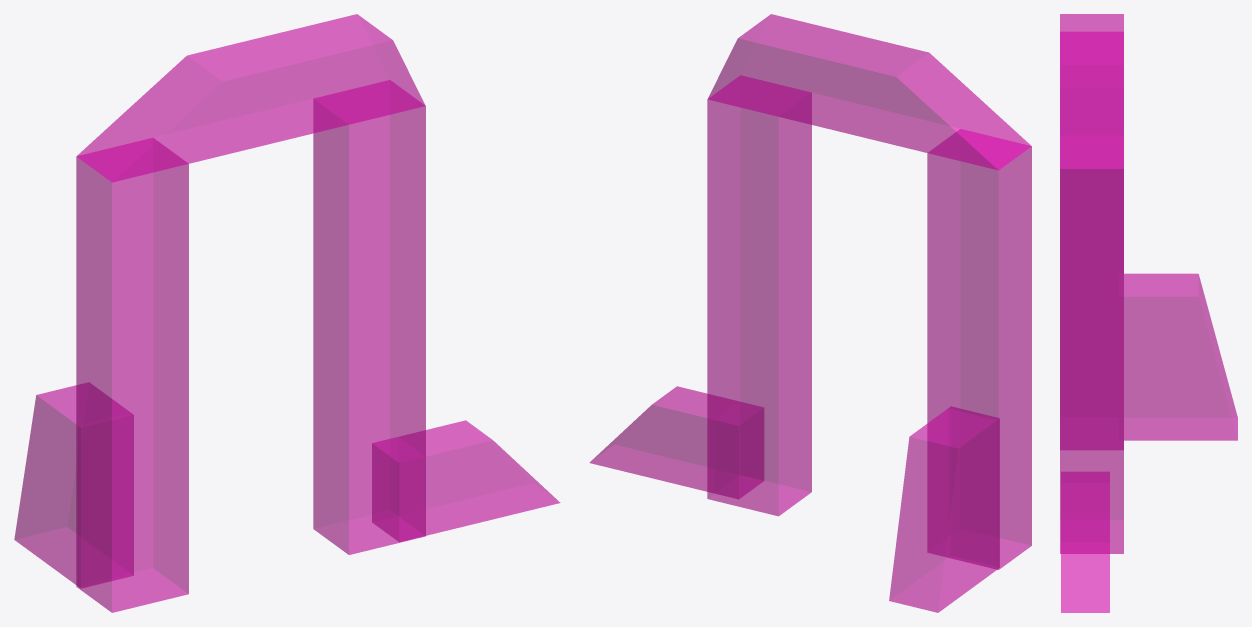
Rendered from SM_Env_Ruin_04_Collision.fbx.
The picture shows the model from 3 angles, left to right: view 1: azimuth 30°, elevation 25°; view 2: azimuth 150°, elevation 25°; view 3: azimuth 270°, elevation 25°; orthographic projection. The views are drawn at different scales.
Visible parts, largest first — view 1: SM_Env_Ruin_04_Collision; view 2: SM_Env_Ruin_04_Collision; view 3: SM_Env_Ruin_04_Collision.
Part boxes in pixels (<box>): SM_Env_Ruin_04_Collision: <box>14,14,560,612</box>; SM_Env_Ruin_04_Collision: <box>589,14,1031,612</box>; SM_Env_Ruin_04_Collision: <box>1060,14,1237,612</box>.
Bounding box in the file's own units: 417 × 447 × 160.
